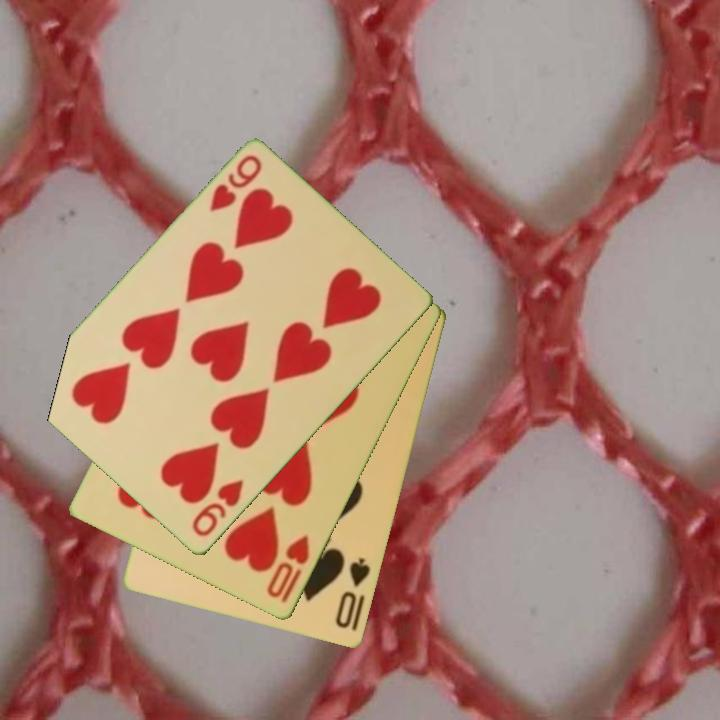10h: (263, 531, 313, 602)
10s: (332, 555, 374, 632)
9h: (205, 151, 265, 216), (188, 476, 247, 541)
